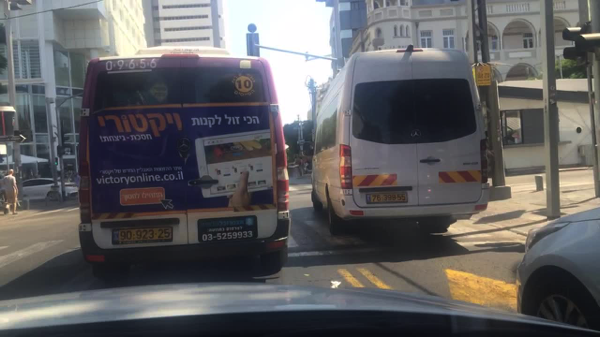bus: (75, 50, 290, 280), (309, 48, 491, 236)
car: (514, 207, 598, 336), (17, 177, 76, 204)
person: (4, 168, 21, 217)
traffic light: (563, 23, 583, 61), (575, 31, 598, 54), (247, 30, 260, 57), (54, 158, 59, 166)
traffic sign: (475, 64, 491, 88), (0, 135, 26, 145), (247, 25, 257, 32)
